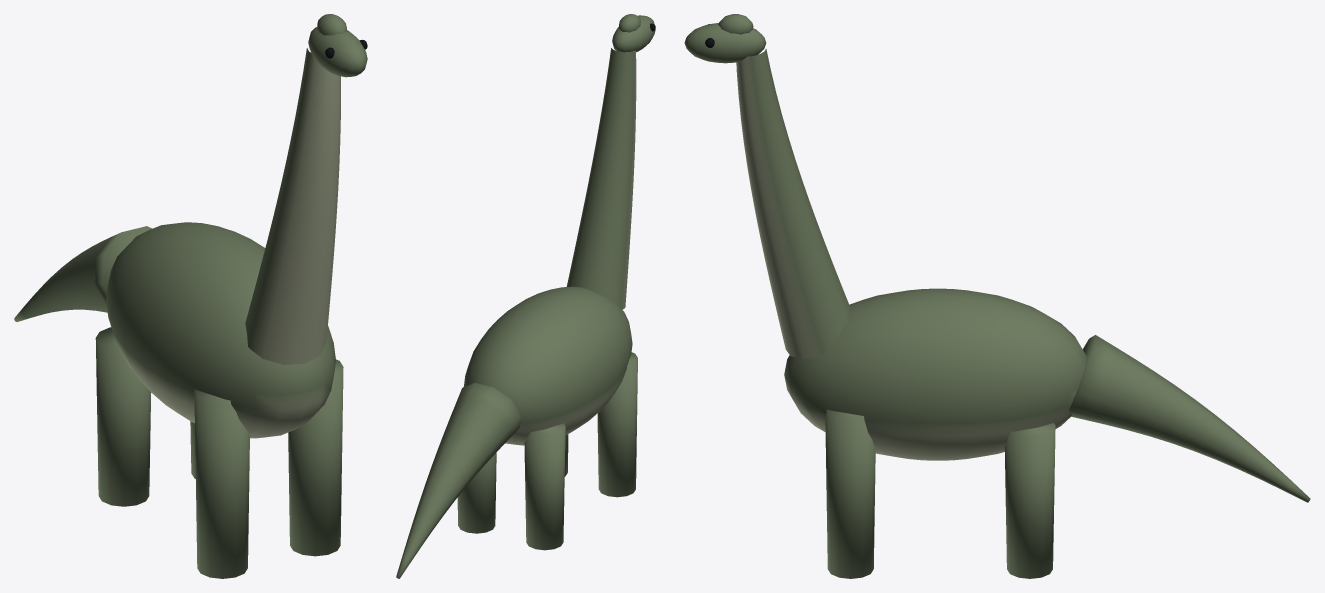
Rendered from brachio.glb.
3 views of the same model, side by side, from view 1: azimuth 30°, elevation 25°; view 2: azimuth 150°, elevation 25°; view 3: azimuth 270°, elevation 25° (orthographic). The views are drawn at different scales.
Visible parts, largest first — view 1: Brachio; view 2: Brachio; view 3: Brachio.
Part boxes in pixels (x1=…): Brachio: x1=14, y1=14, x2=367, y2=578; Brachio: x1=396, y1=14, x2=655, y2=578; Brachio: x1=684, y1=14, x2=1310, y2=578.
Bounding box in the file's own units: 6.4 × 23 × 24.45.
